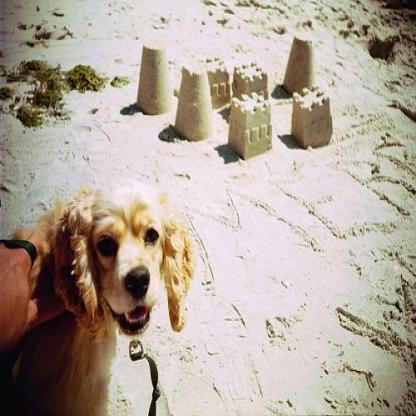cocker_spaniel: (0, 174, 199, 414)
